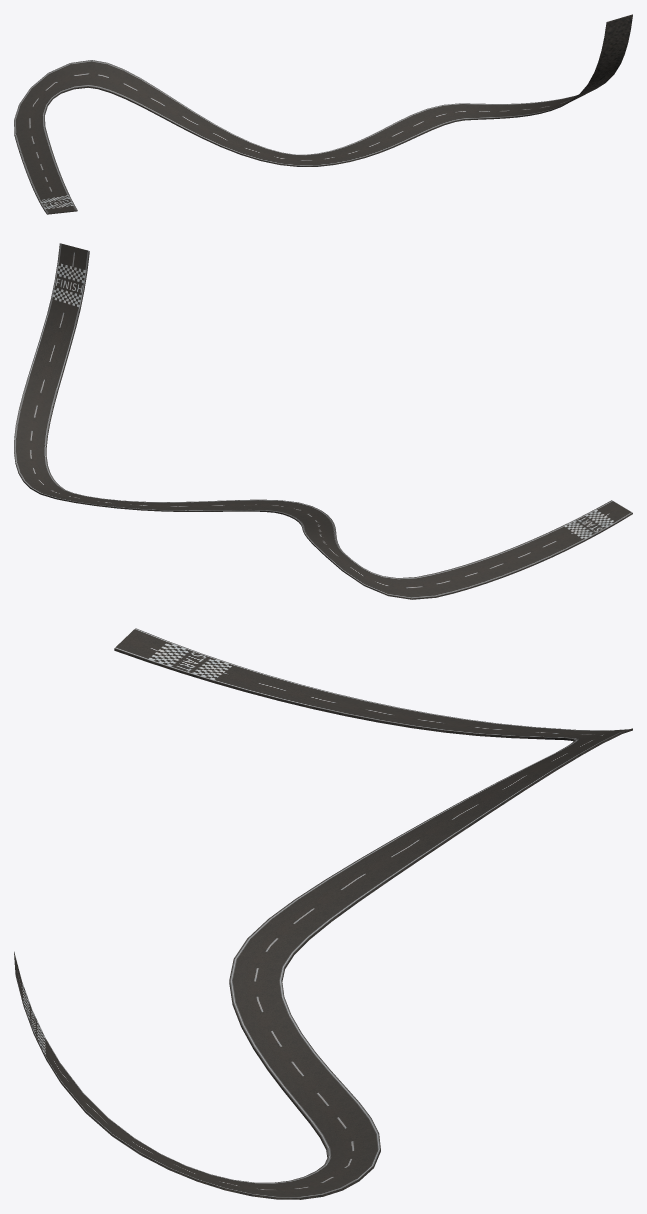
The model's file is TrackLevel008.FBX.
3 renders of one model, top to bottom at view 1: azimuth 30°, elevation 25°; view 2: azimuth 150°, elevation 25°; view 3: azimuth 270°, elevation 25°, orthographic. The views are drawn at different scales.
Parts seen in each view (by area): view 1: Track008; view 2: Track008; view 3: Track008.
Part boxes in pixels (x1,y1,x2,y2): Track008: (14,14,632,214); Track008: (14,243,632,599); Track008: (14,628,632,1199).
Bounding box in the file's own units: 4107 × 1032 × 2106.
